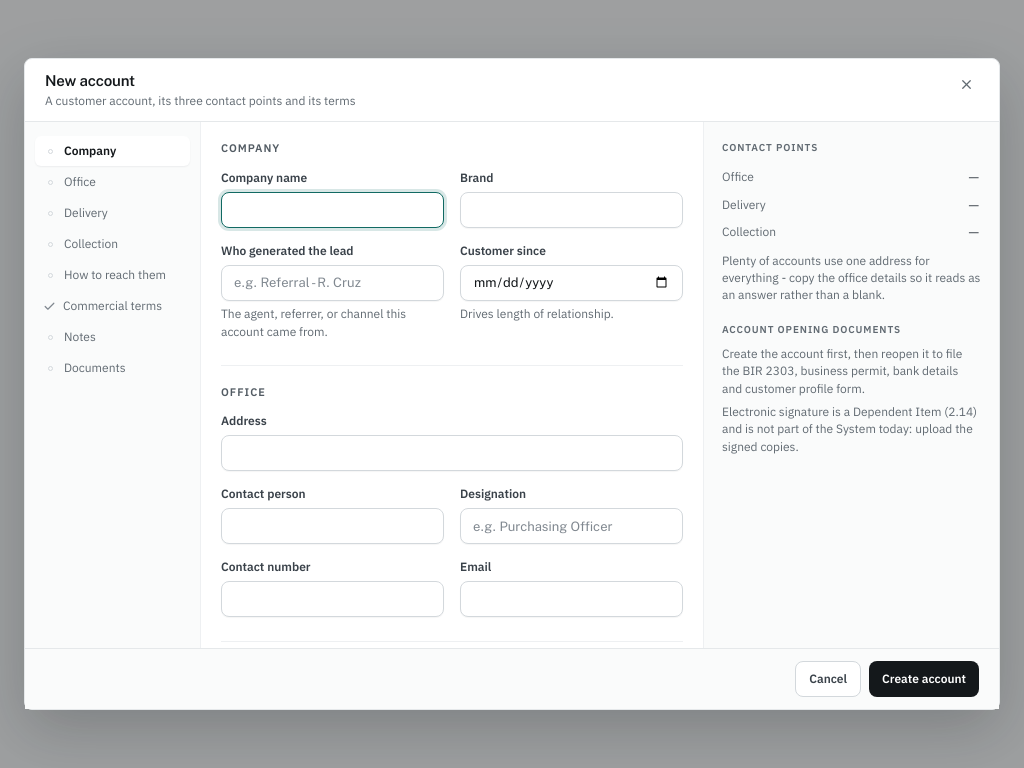
Test case: CustomerForm › rejects an address that is not one
Type "Nova Fuels" into the field labelled "Company name".
click(332, 210); type("Nova Fuels")  # box [221, 192, 444, 228]
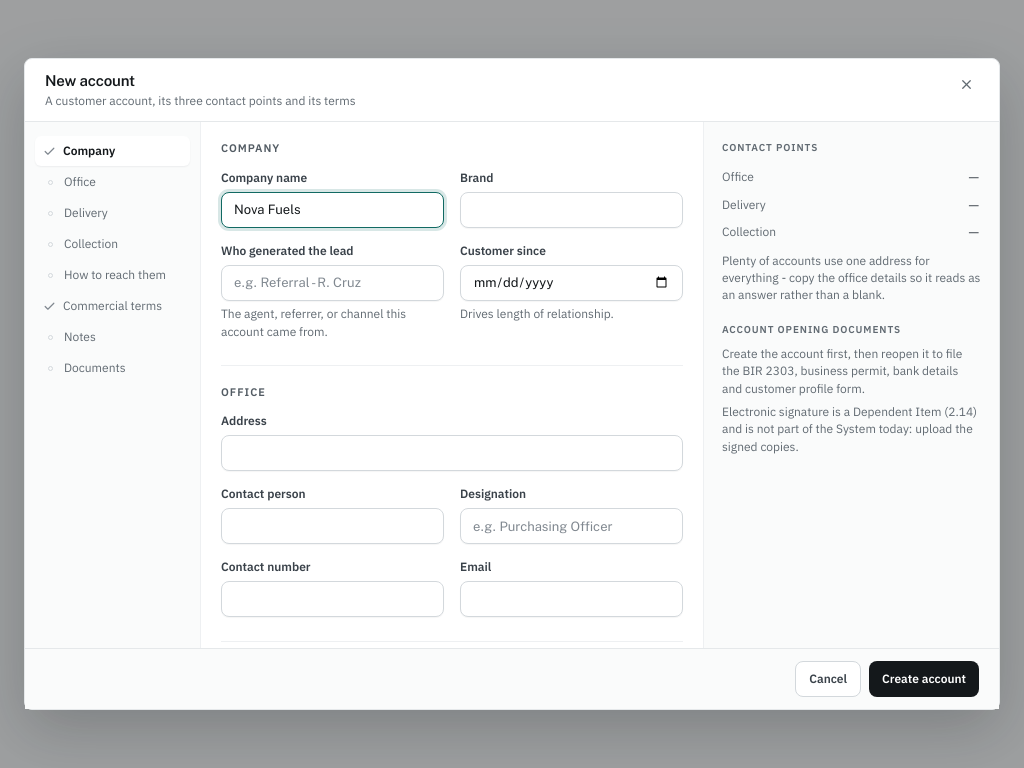
Type "ops.novafuels" into the field labelled "Email".
click(572, 599); type("ops.novafuels")  # box [460, 581, 683, 617]
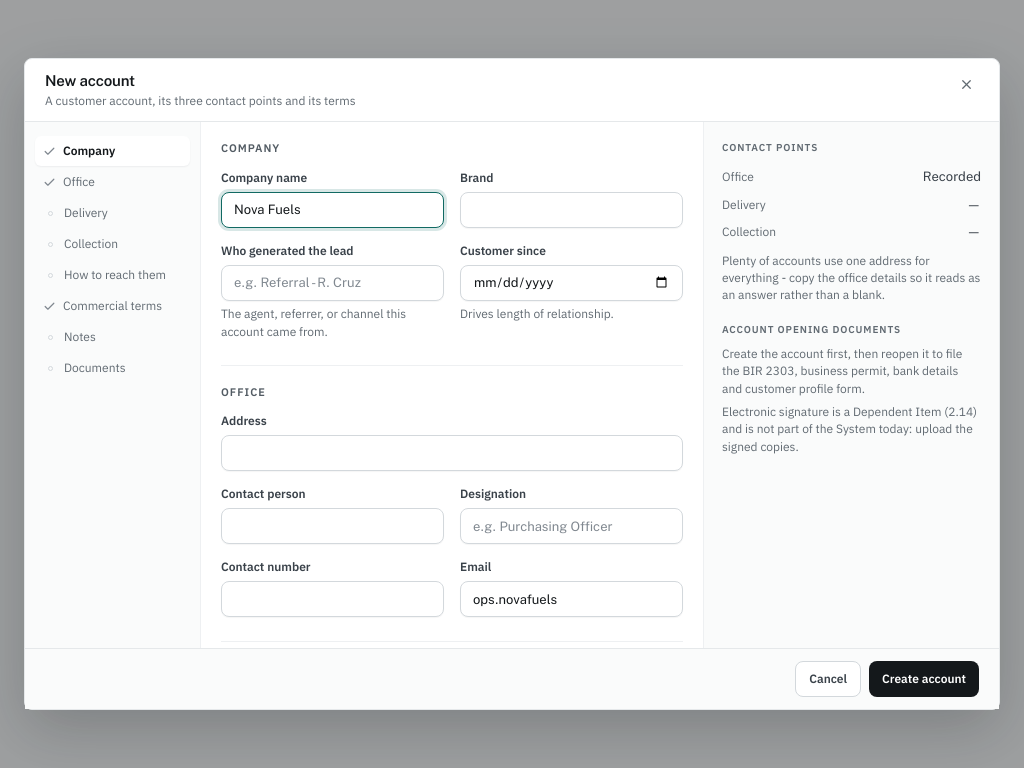
Click the button "Create account".
click(924, 679)  # box [869, 661, 979, 697]
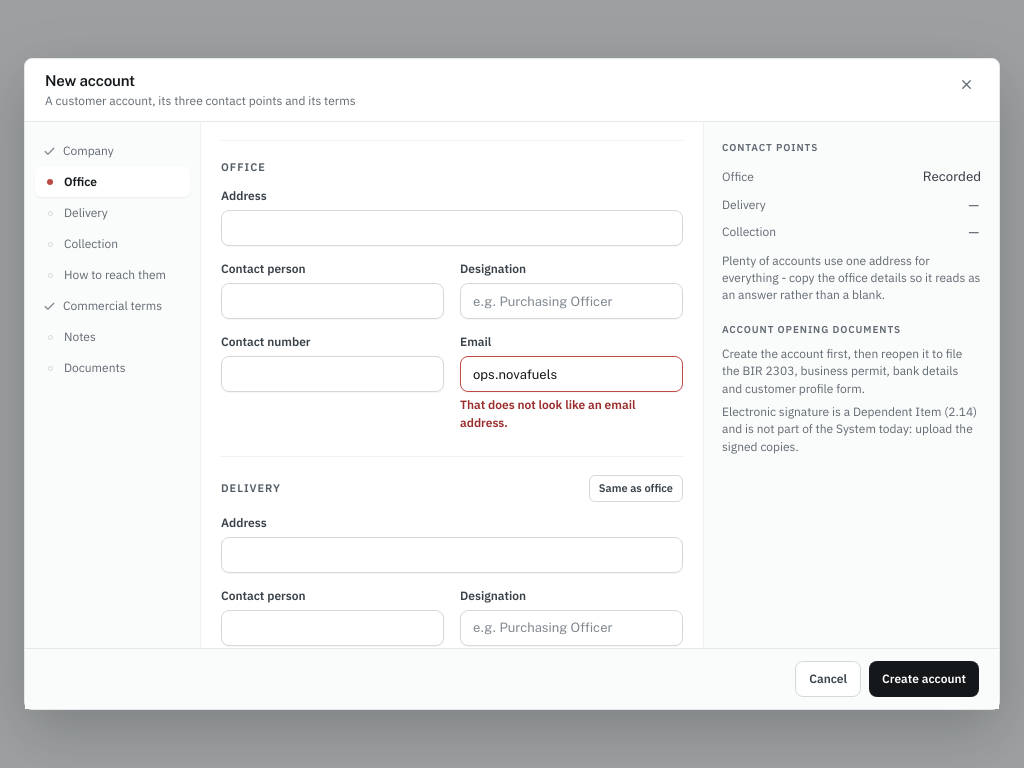
Check: the text "That does not look like an email address." is shown, box [460, 397, 636, 430]
